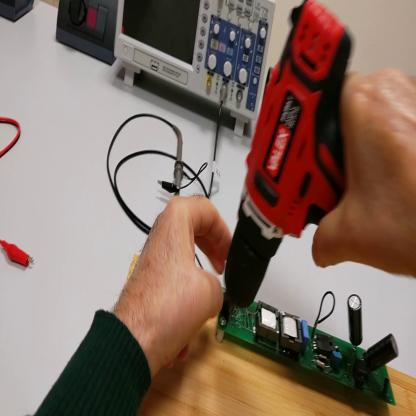electric screwdriver: (223, 3, 356, 318)
hand: (311, 65, 416, 279), (126, 192, 232, 374)
high voltage board: (220, 291, 402, 406)
oscilloscope: (117, 3, 277, 144)
oscilloscope probe tip: (173, 127, 183, 197)
socket: (56, 2, 117, 67), (1, 1, 35, 26)
working area: (129, 252, 416, 416)
